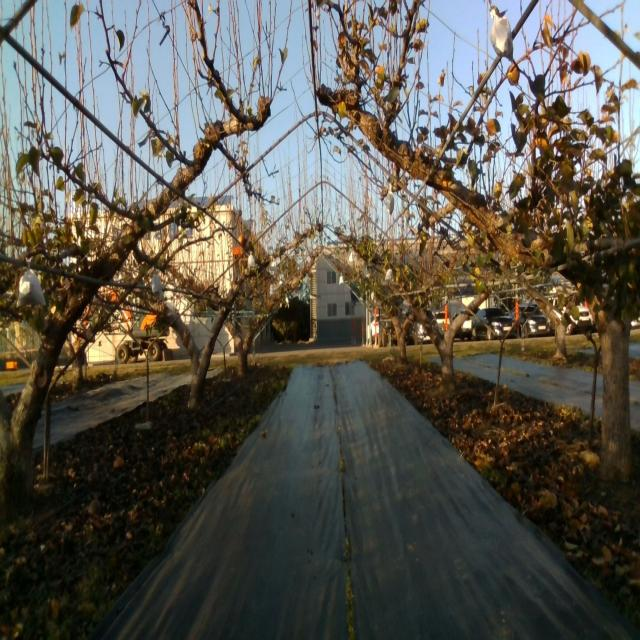pearbags: (488, 10, 514, 65), (16, 268, 46, 309), (152, 273, 164, 301)
